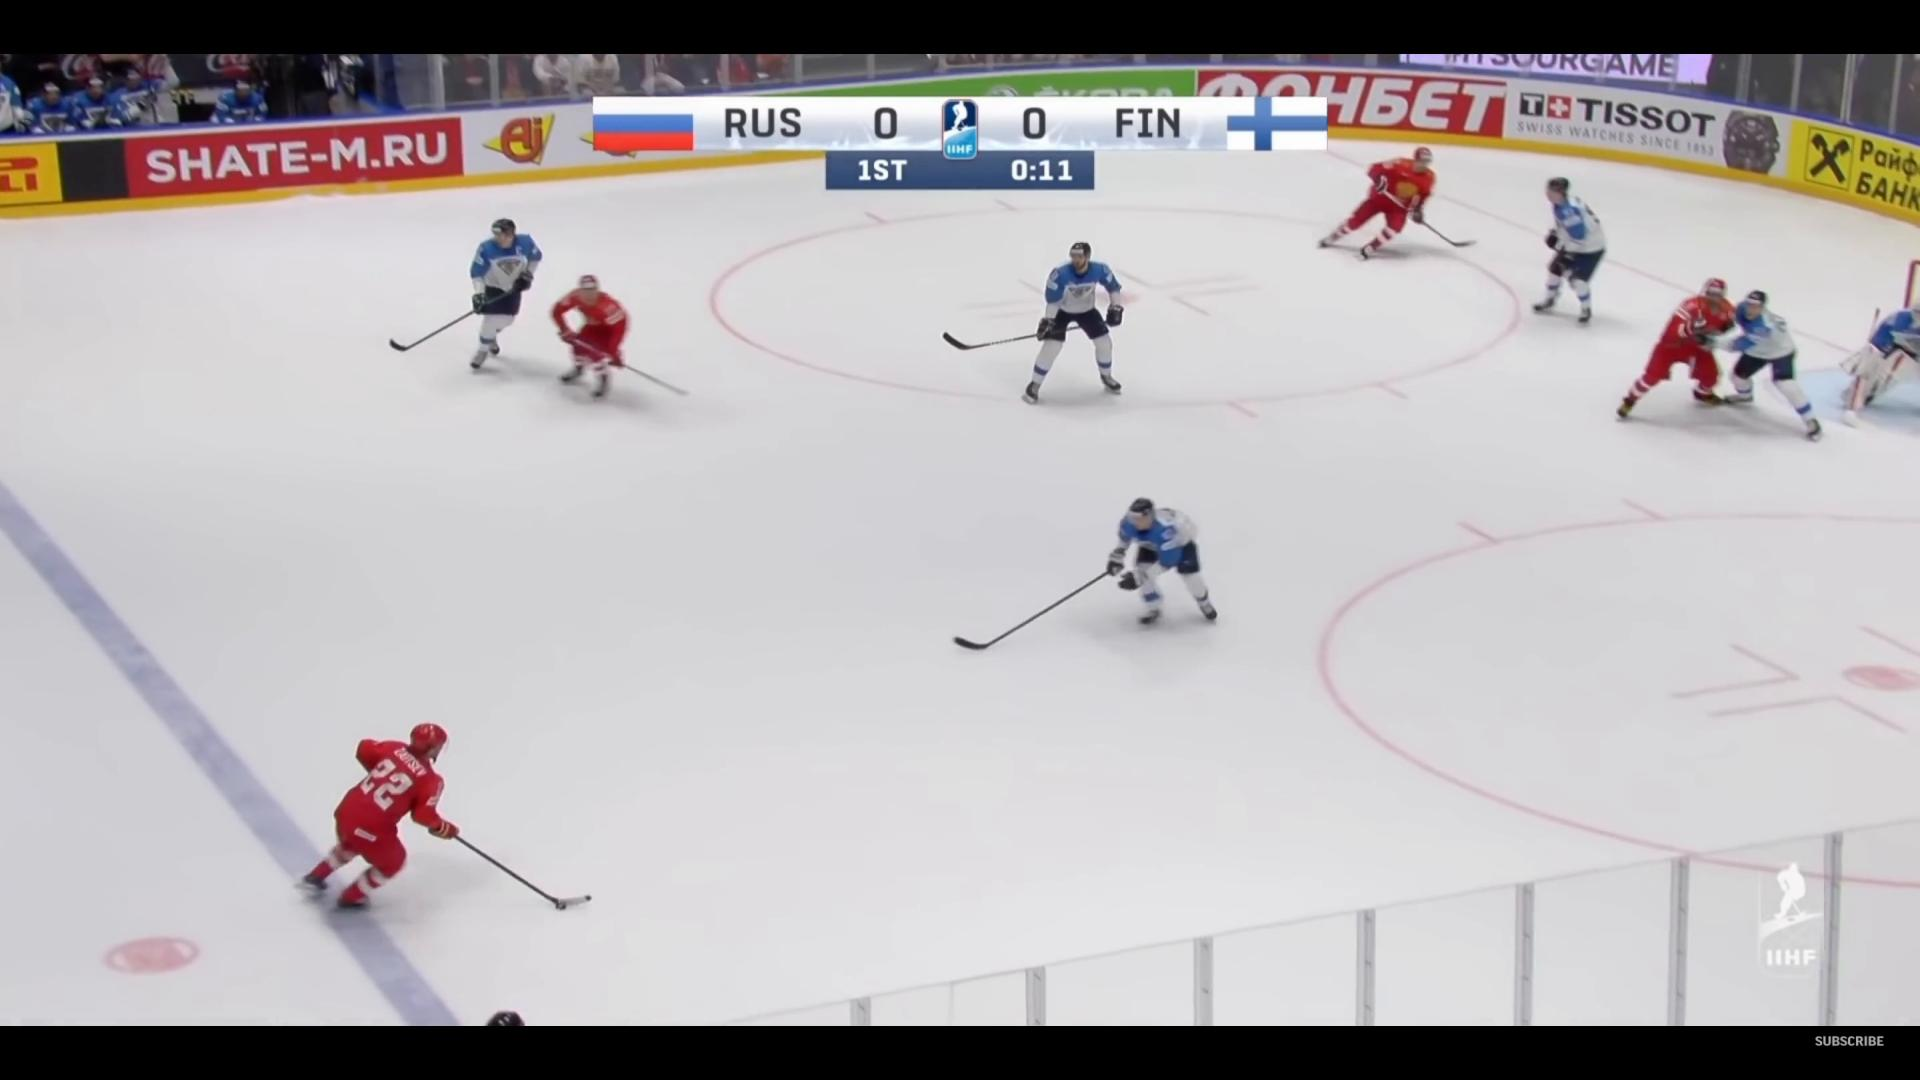puck: (555, 903, 566, 910)
